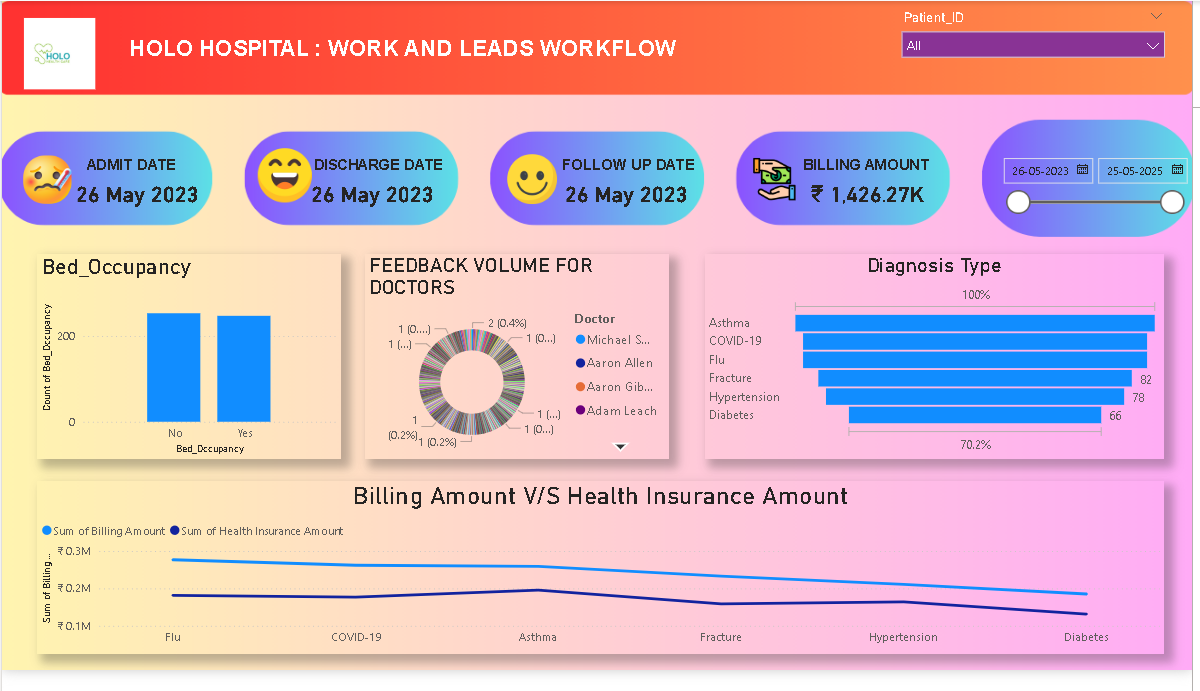

The page's visual inventory and layout, read from the dashboard file:
{"tool":"powerbi","page":{"name":"Page 1","canvas":[1280,720],"ordinal":0},"visuals":[{"type":"image","box":[15.1,13.7,94.7,86.4],"z":0},{"type":"textbox","box":[131.7,32.9,725.9,54.9],"z":1000},{"type":"slicer","fields":{"Values":["Sheet1.Patient_ID"]},"box":[957.8,4.1,303.3,83.7],"z":2000},{"type":"card","fields":{"Values":["Sheet1.Admit_Date"]},"box":[76.8,181.1,138.6,52.1],"z":3000},{"type":"textbox","box":[76.8,161.9,124.9,38.4],"z":4000},{"type":"textbox","box":[329.3,161.9,150.9,48],"z":5000},{"type":"card","fields":{"Values":["Sheet1.Admit_Date"]},"box":[329.3,181.1,138.6,52.1],"z":6000},{"type":"card","fields":{"Values":["Sheet1.Admit_Date"]},"box":[602.4,181.1,138.6,52.1],"z":7000},{"type":"textbox","box":[591.7,161.4,164.1,30.9],"z":8000},{"type":"textbox","box":[841.2,161.9,178.4,48],"z":9000},{"type":"card","fields":{"Values":["Sheet1.Billing Amount"]},"box":[861.8,181.1,138.6,52.1],"z":10000},{"type":"slicer","fields":{"Values":["Sheet1.Admit_Date"]},"box":[1065.1,158.7,215.2,83.4],"z":11000},{"type":"image","box":[14.8,161.4,68.6,61.9],"z":12000},{"type":"image","box":[537.9,160,64.6,63.2],"z":13000},{"type":"image","box":[270.3,152,68.6,71.3],"z":14000},{"type":"image","box":[800.2,164.1,61.9,55.1],"z":15000},{"type":"donutChart","title":"FEEDBACK VOLUME FOR DOCTORS","fields":{"Category":["Sheet1.Doctor"],"Y":["Sheet1.Doctor"]},"box":[389.5,272.2,327.5,221],"z":16000},{"type":"columnChart","title":" Bed_Occupancy","fields":{"Category":["Sheet1.Bed_Occupancy"],"Y":["Sheet1.Bed_Occupancy"]},"box":[37.7,272.2,327.5,221],"z":16001},{"type":"funnel","title":" Diagnosis Type","fields":{"Category":["Sheet1.Diagnosis"],"Y":["Sheet1.Diagnosis"]},"box":[756,272.2,494.6,221],"z":16002},{"type":"lineChart","title":"Billing Amount V/S Health Insurance Amount","fields":{"Y":["Sheet1.Billing Amount","Sheet1.Health Insurance Amount"],"Category":["Sheet1.Diagnosis"]},"box":[37.7,516.2,1212.9,186],"z":16003}]}

Visuals, with their boxes in screenshot pixels (x1, y1, x2, y2), scaled from the page's 1280x720 canvas onto the 1200x691 screenshot:
image: bbox(14, 13, 103, 96)
textbox: bbox(123, 32, 804, 84)
slicer - Sheet1.Patient_ID: bbox(898, 4, 1182, 84)
card - Sheet1.Admit_Date: bbox(72, 174, 202, 224)
textbox: bbox(72, 155, 189, 192)
textbox: bbox(309, 155, 450, 201)
card - Sheet1.Admit_Date: bbox(309, 174, 439, 224)
card - Sheet1.Admit_Date: bbox(565, 174, 695, 224)
textbox: bbox(555, 155, 709, 185)
textbox: bbox(789, 155, 956, 201)
card - Sheet1.Billing Amount: bbox(808, 174, 938, 224)
slicer - Sheet1.Admit_Date: bbox(999, 152, 1199, 232)
image: bbox(14, 155, 78, 214)
image: bbox(504, 154, 565, 214)
image: bbox(253, 146, 318, 214)
image: bbox(750, 157, 808, 210)
"FEEDBACK VOLUME FOR DOCTORS" donutChart: bbox(365, 261, 672, 473)
" Bed_Occupancy" columnChart: bbox(35, 261, 342, 473)
" Diagnosis Type" funnel: bbox(709, 261, 1172, 473)
"Billing Amount V/S Health Insurance Amount" lineChart: bbox(35, 495, 1172, 674)
